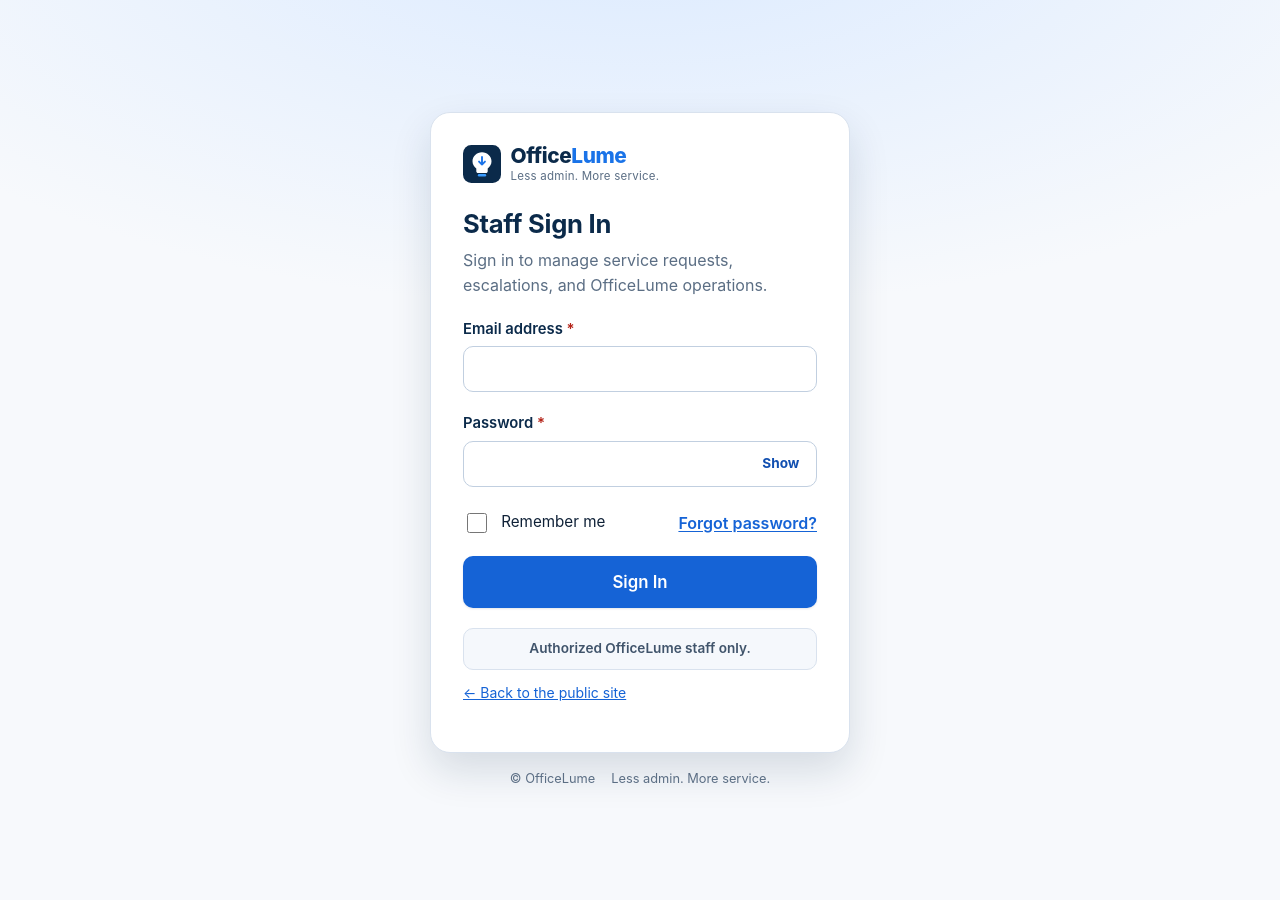
Test case: staff login page › shows the friendly message for a wrong password and clears the password field
The image size is (1280, 900).
Step 1. Type "pat@example.com" into the field labelled "Email address *" → (640, 369), box [463,346,817,392]
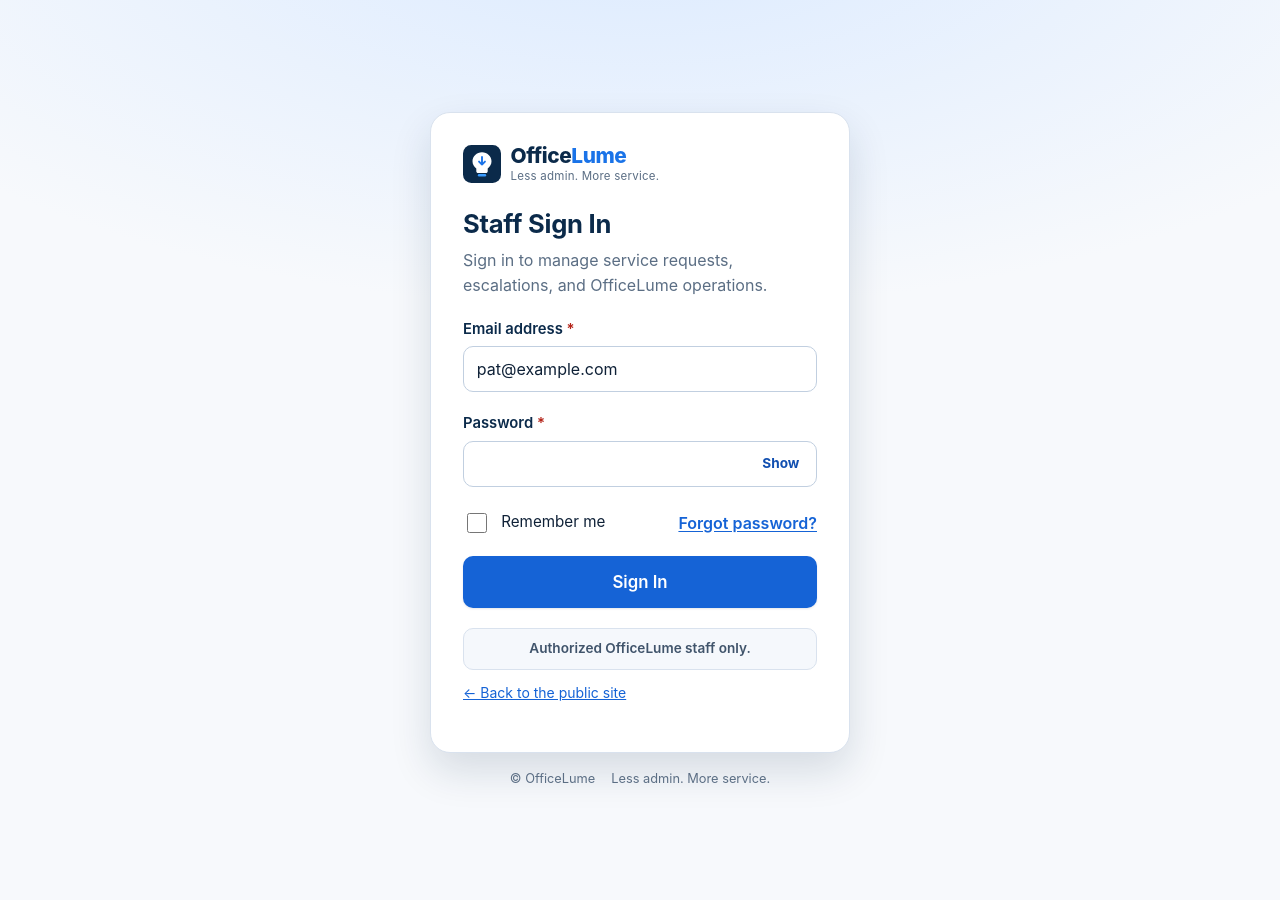
Step 2. Type "wrong" into the password field labelled "Password *" → (640, 464), box [463,441,817,487]
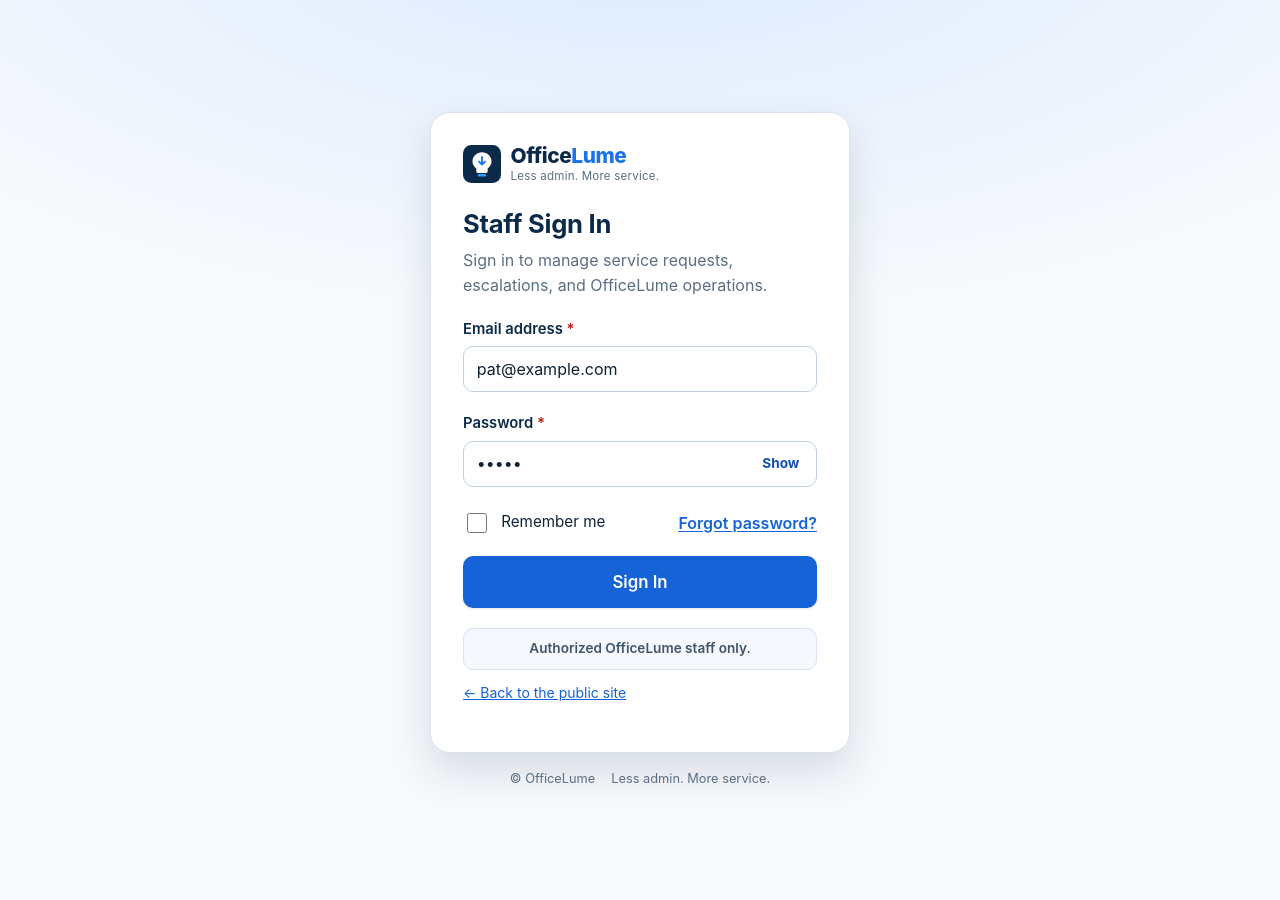
Step 3. Click the button "Sign In" → (640, 582), box [463,556,817,608]
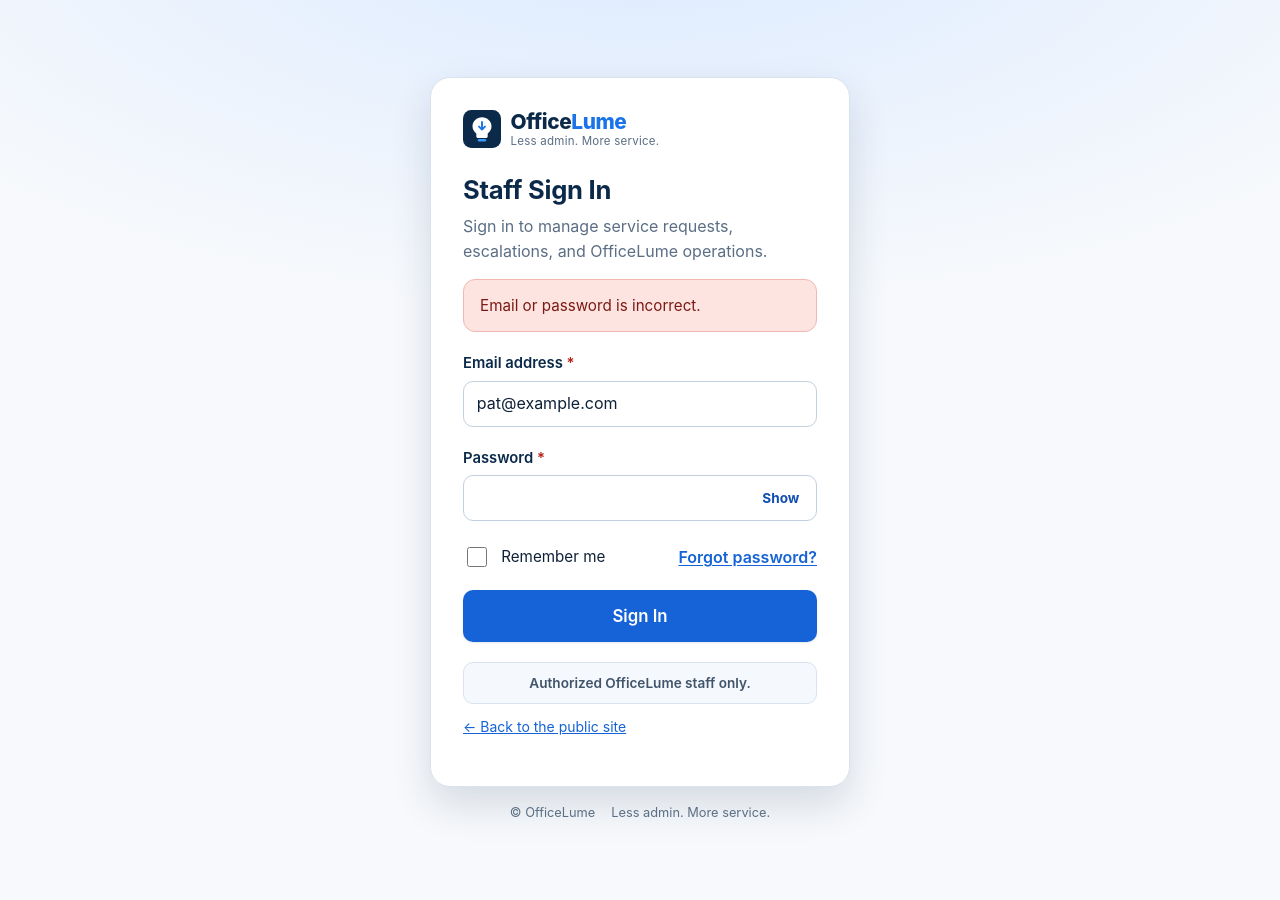
Check: the text "Email or password is incorrect." is shown, box [480,294,701,318]
Check: the password field labelled "Password *" is empty, box [463,475,817,521]
